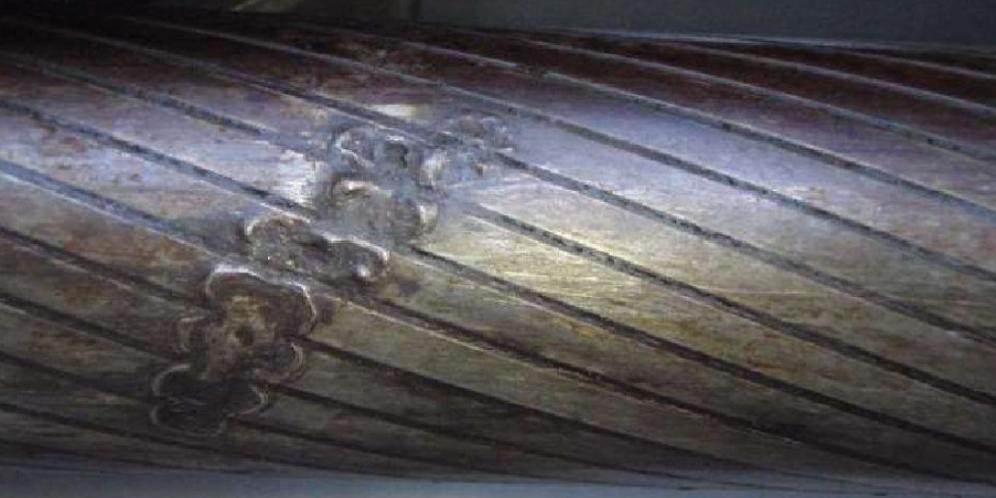thunderbolt: (119, 78, 497, 443)
